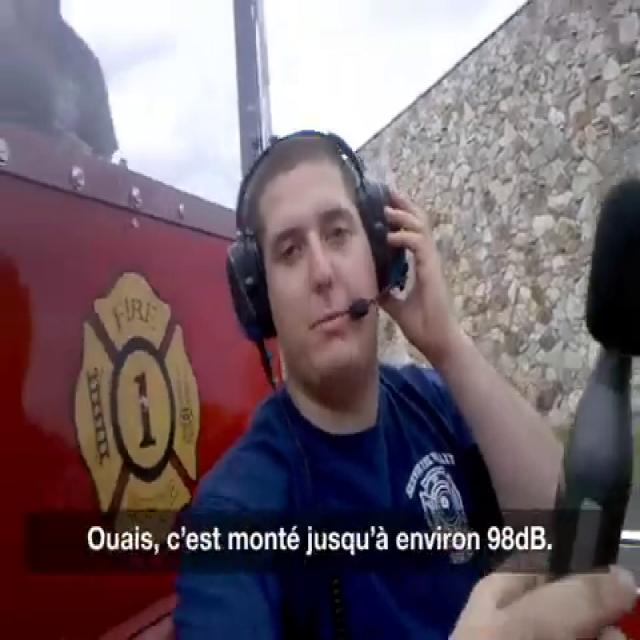earmuff: (350, 173, 413, 298), (219, 231, 280, 343)
